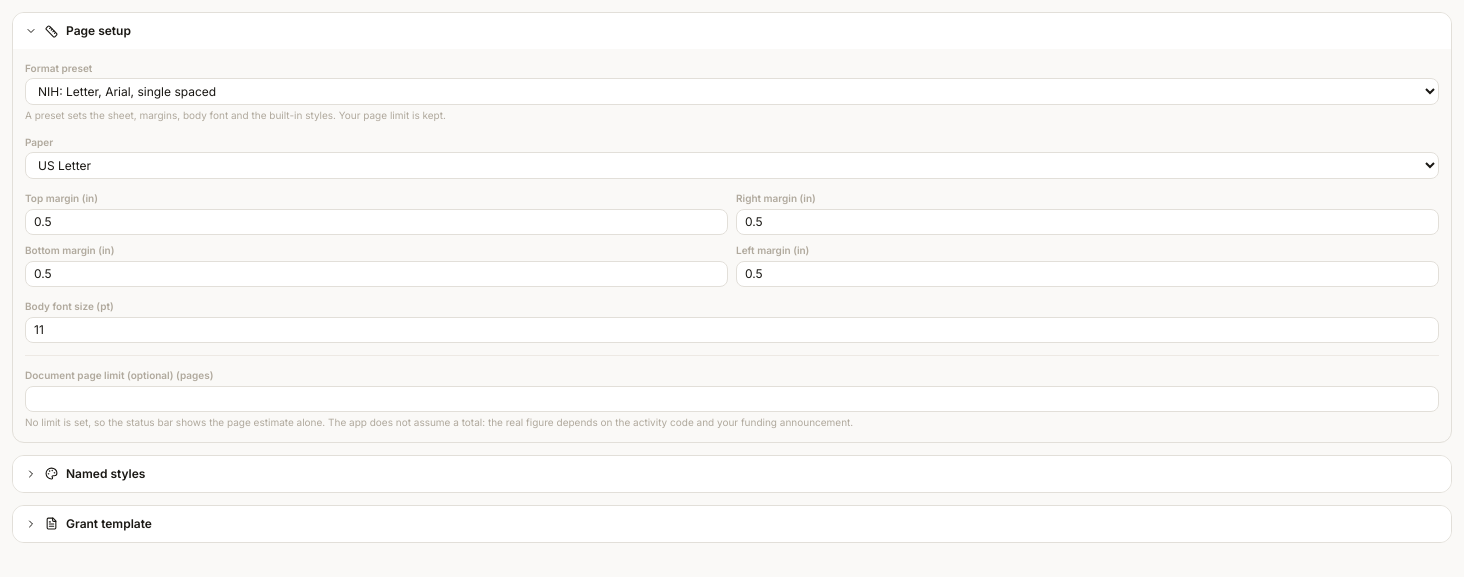
Test case: FormatPanel › margins and font sizes › accepts a margin of 0 (and warns), rejects a negative one and does not commit it
Replace the text in the number field with test id "control-margin-top" with "0" at (376, 222), box [25,209,728,235]
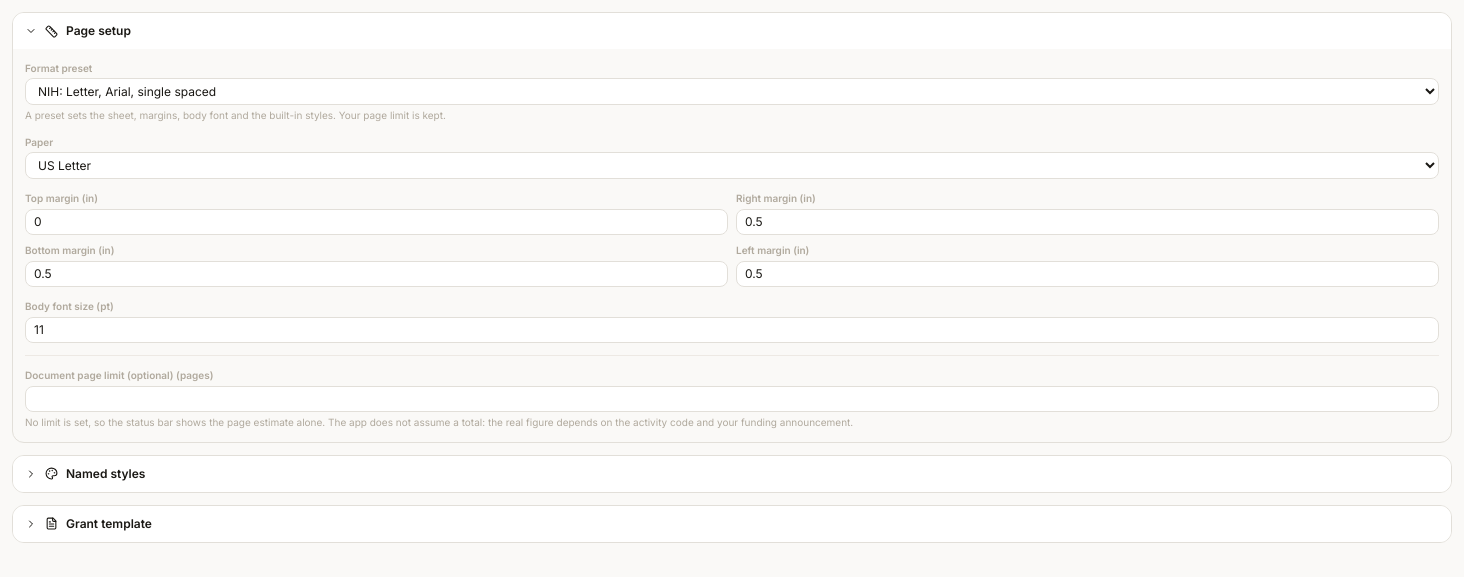
Replace the text in the number field with test id "control-margin-top" with "-1" at (376, 222), box [25,209,728,235]
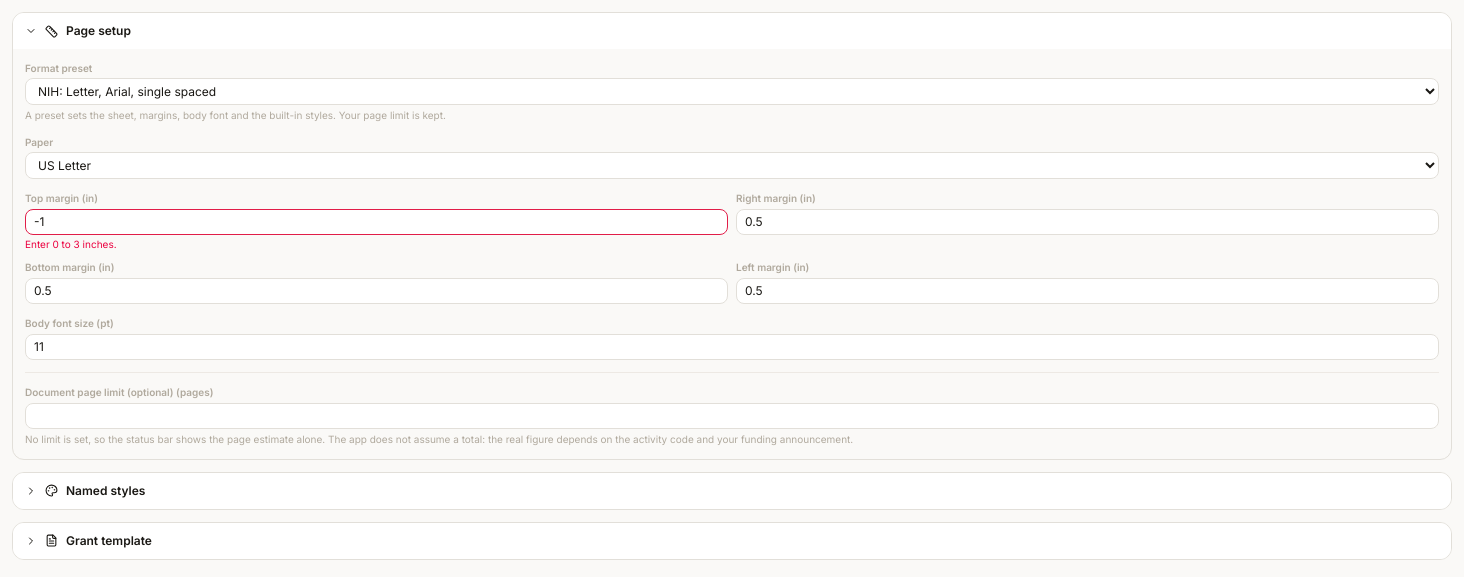
Now the message "Enter 0 to 3 inches." is shown, box [25,238,116,250]
